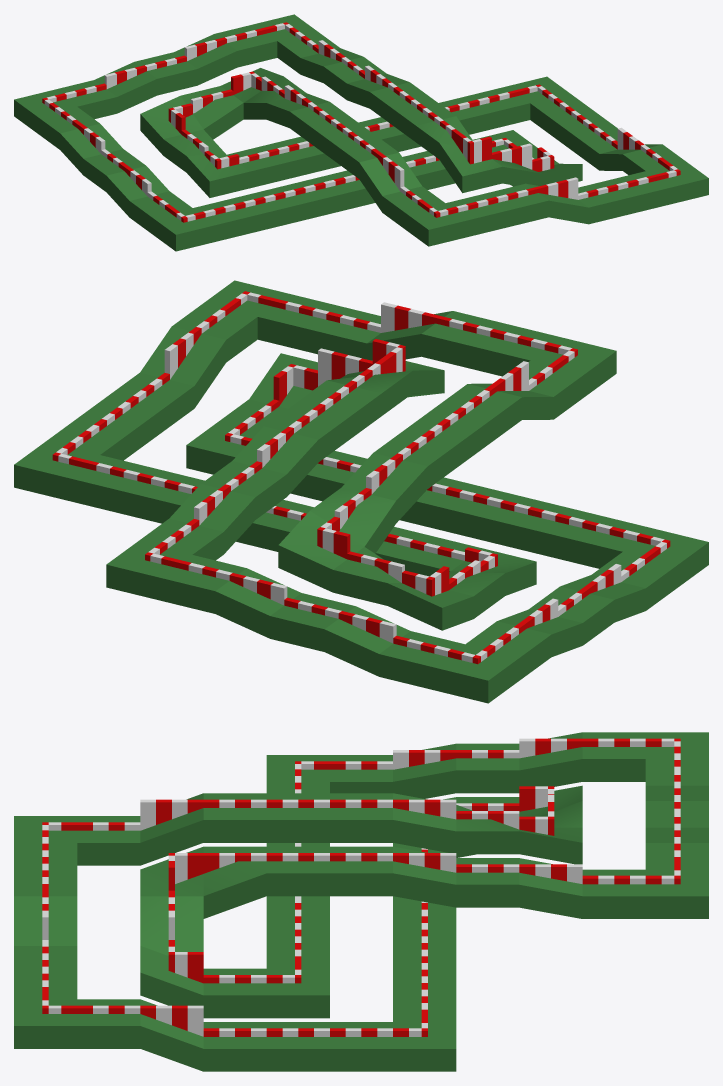
File: Ground14-G.fbx
3 renders of one model, top to bottom at view 1: azimuth 30°, elevation 25°; view 2: azimuth 150°, elevation 25°; view 3: azimuth 270°, elevation 25°, orthographic. The views are drawn at different scales.
Visible parts, largest first — view 1: polySurface1083; view 2: polySurface1083; view 3: polySurface1083.
Part boxes in pixels (x1,y1,x2,y2): polySurface1083: [14, 14, 708, 251]; polySurface1083: [14, 280, 708, 703]; polySurface1083: [14, 732, 708, 1071].
Bounding box in the file's own units: 550 × 85 × 550.
